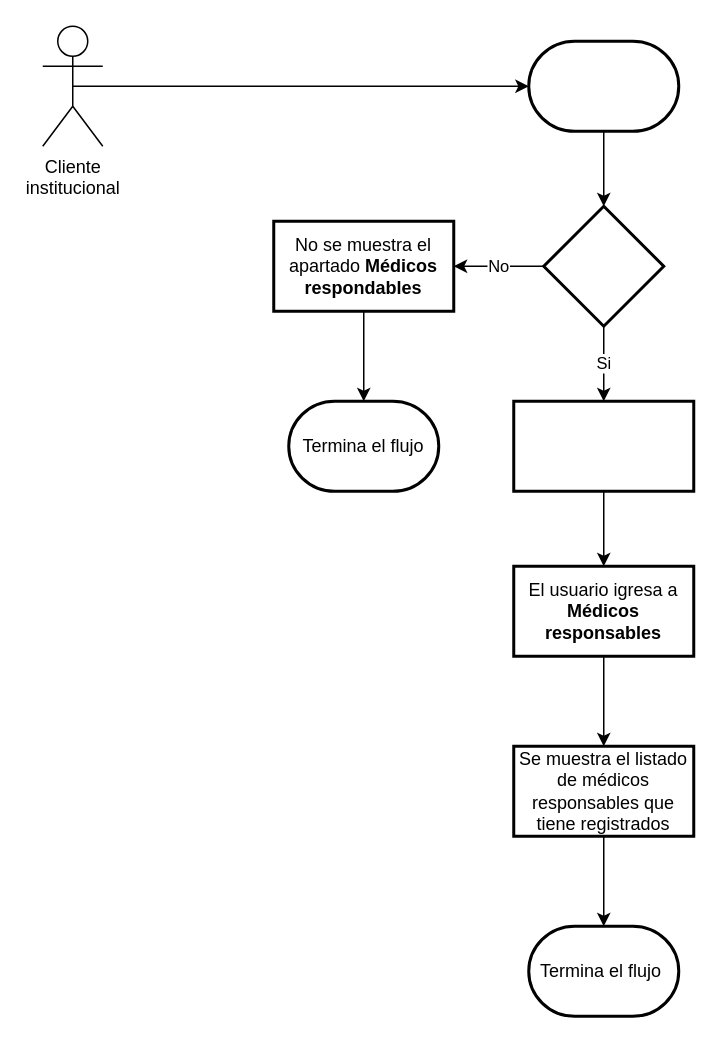
Some shapes in this 722 by 1044 pixel diagram are drawn without their labels. The centre of each missing label's shape, as x and y in pixels:
"Ingresa al apartado perfil" goes at (x=603, y=85).
"Se muestra el apartado Médicos responsables" goes at (x=603, y=445).
"¿Es cliente institucional?" goes at (x=603, y=265).
